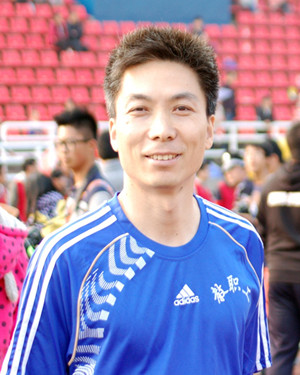noWear: (117, 83, 209, 195), (54, 123, 97, 170)
